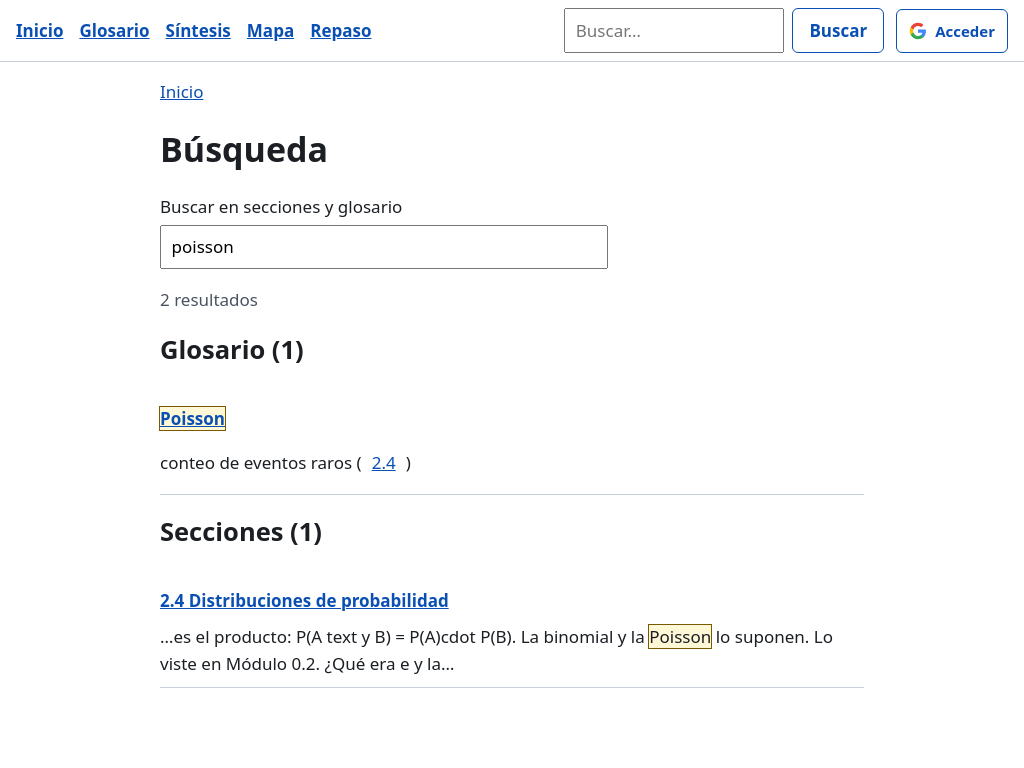
búsqueda › una nueva búsqueda desde el encabezado reemplaza la consulta
Type "normal" into the search field with id "header-search".
click(674, 31); type("normal")  # box [564, 8, 784, 53]
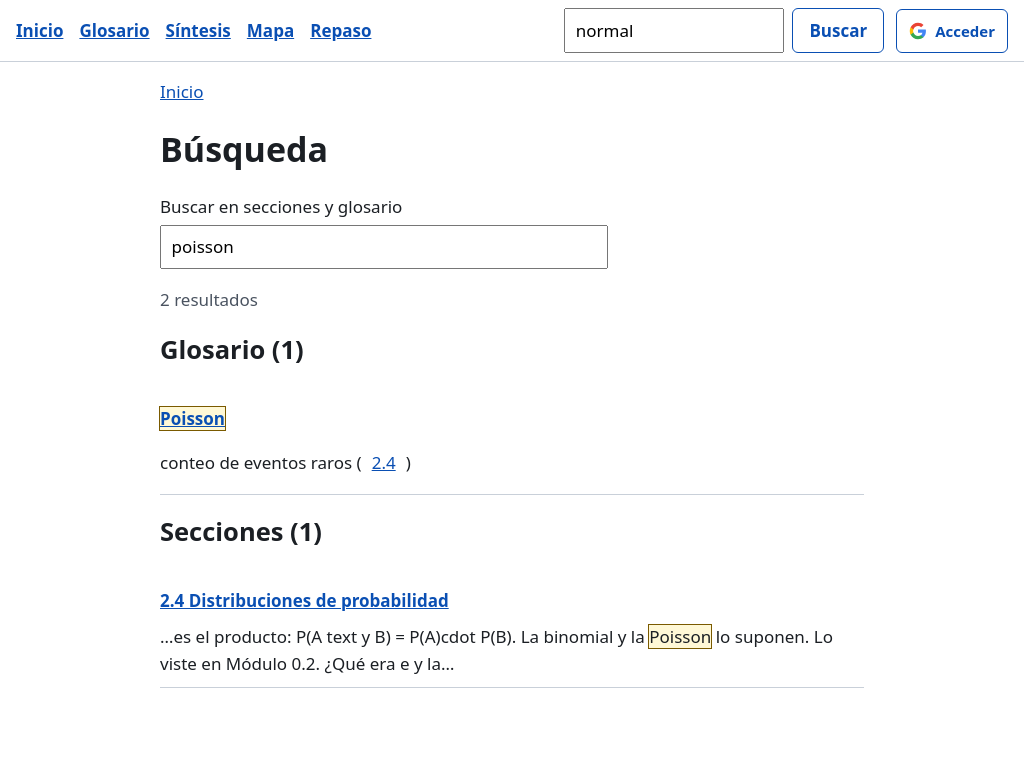
Submit the form, box [564, 8, 884, 53]
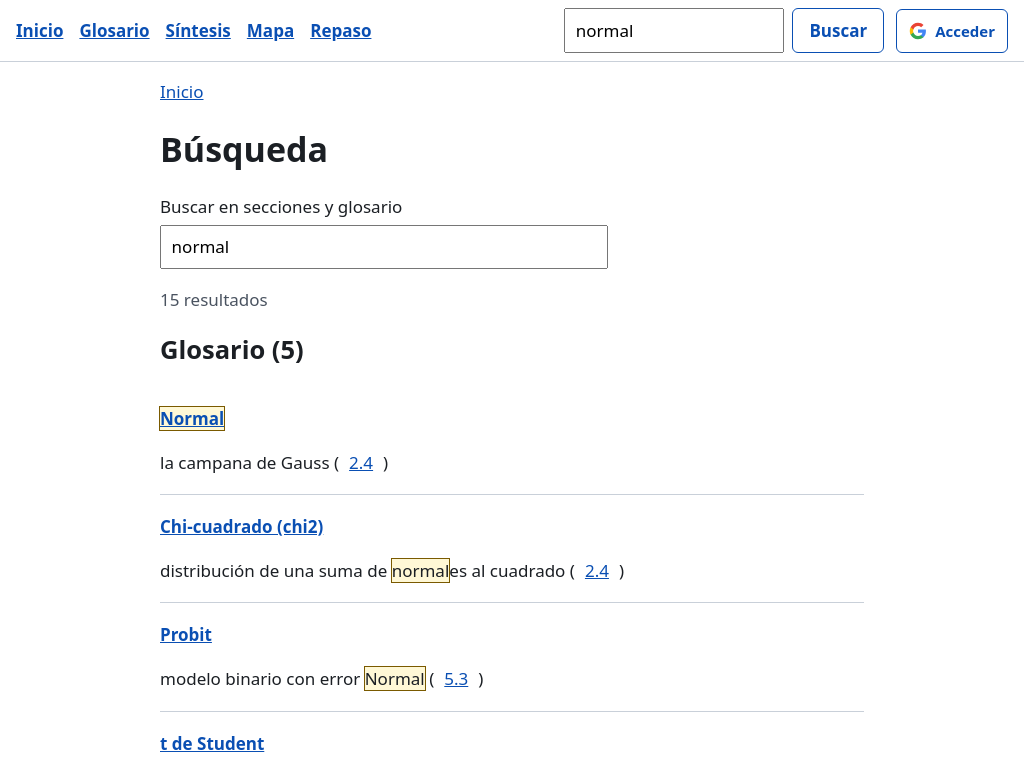
Expected: the search field with id "search-input" holds "normal", [160, 225, 608, 269]
